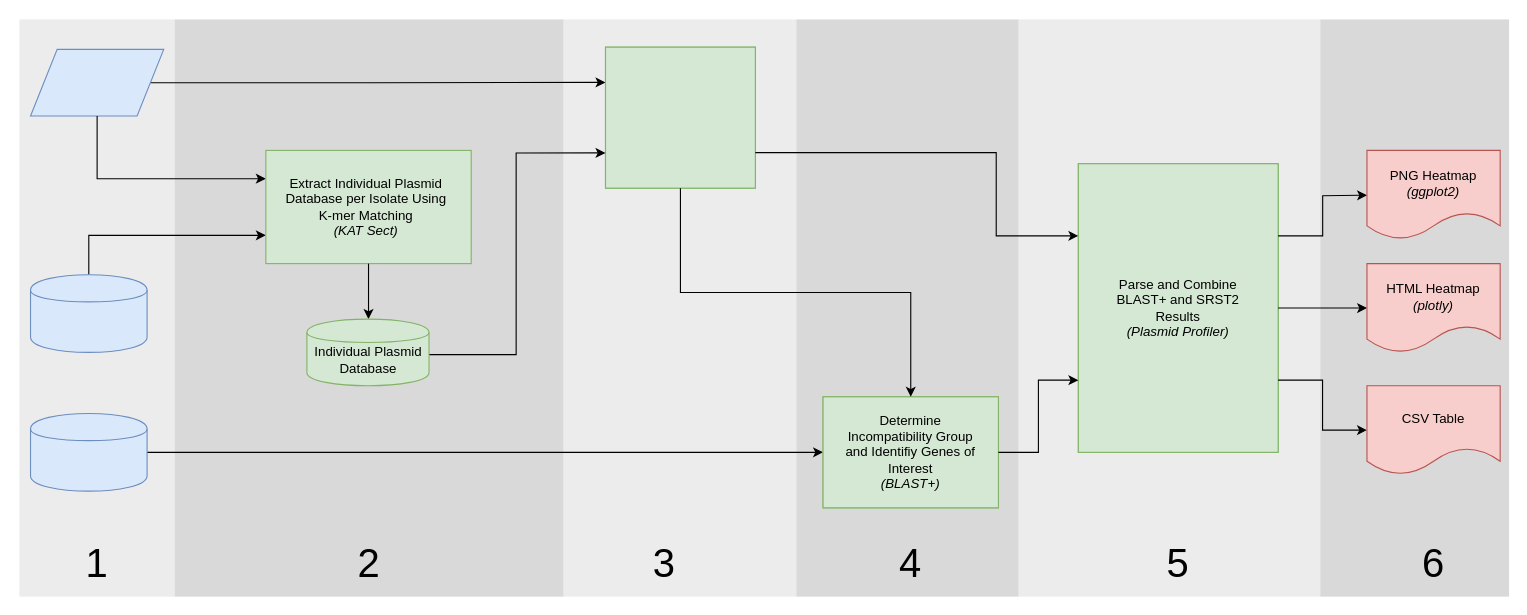
This 1527x615 diagram has some shape labels left out. Here are the shapes that lost their labels. From the top down, the centre of each, then its label:
point (96, 82): Paired-end WGS Reads
point (679, 117): Identify Plasmid Hits per Isolate From Individualized Databases (SRST2)
point (88, 313): Plasmid Database
point (88, 451): Plasmid Finder Database
